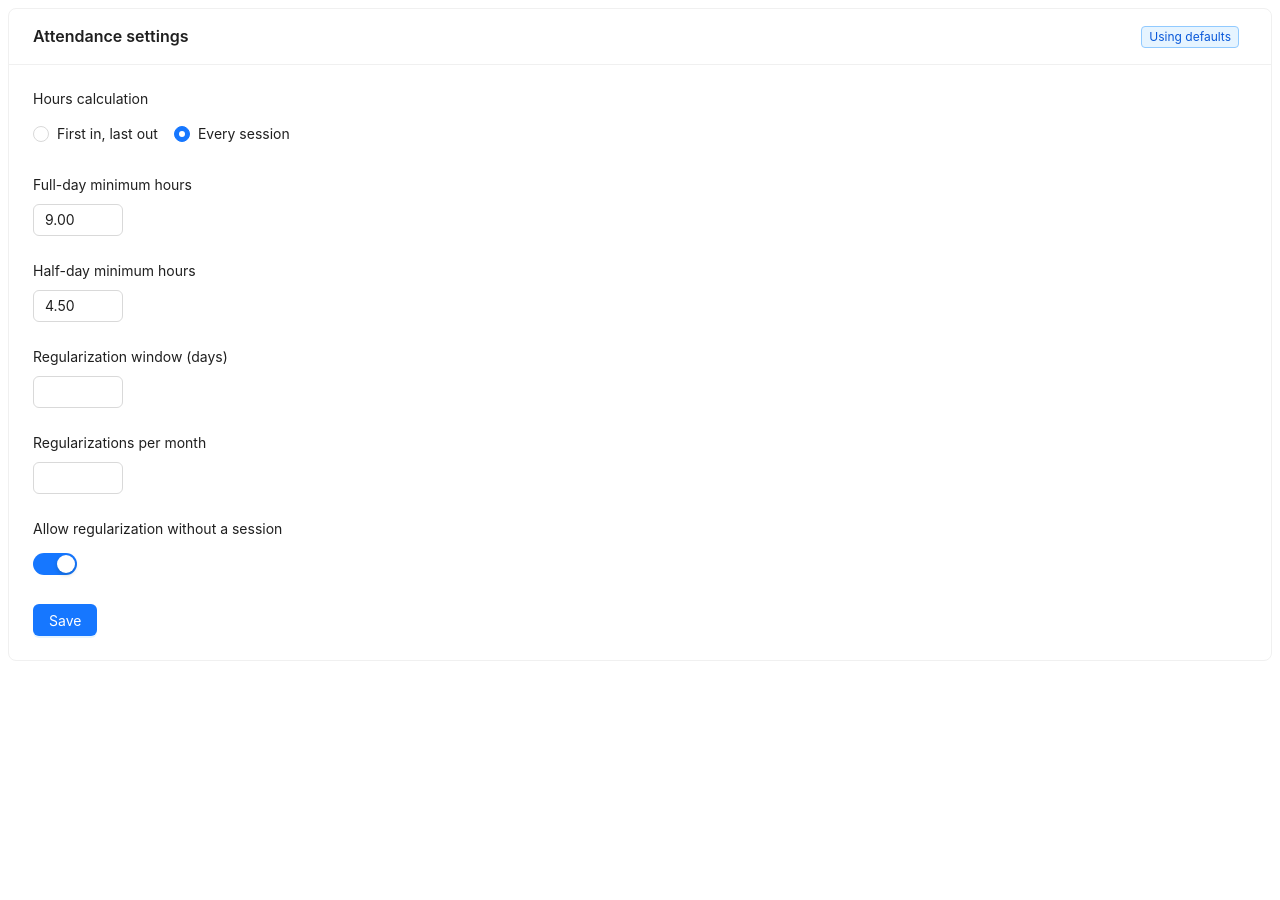
Test: AttendanceSettings (W-48.4 §7) › blocks half day above full day
expect the text "Using defaults" is shown: met, box [1141, 26, 1239, 48]
Replace the text in the number field named "Half-day minimum hours" with "10" at coordinates (78, 306), box [34, 291, 122, 321]
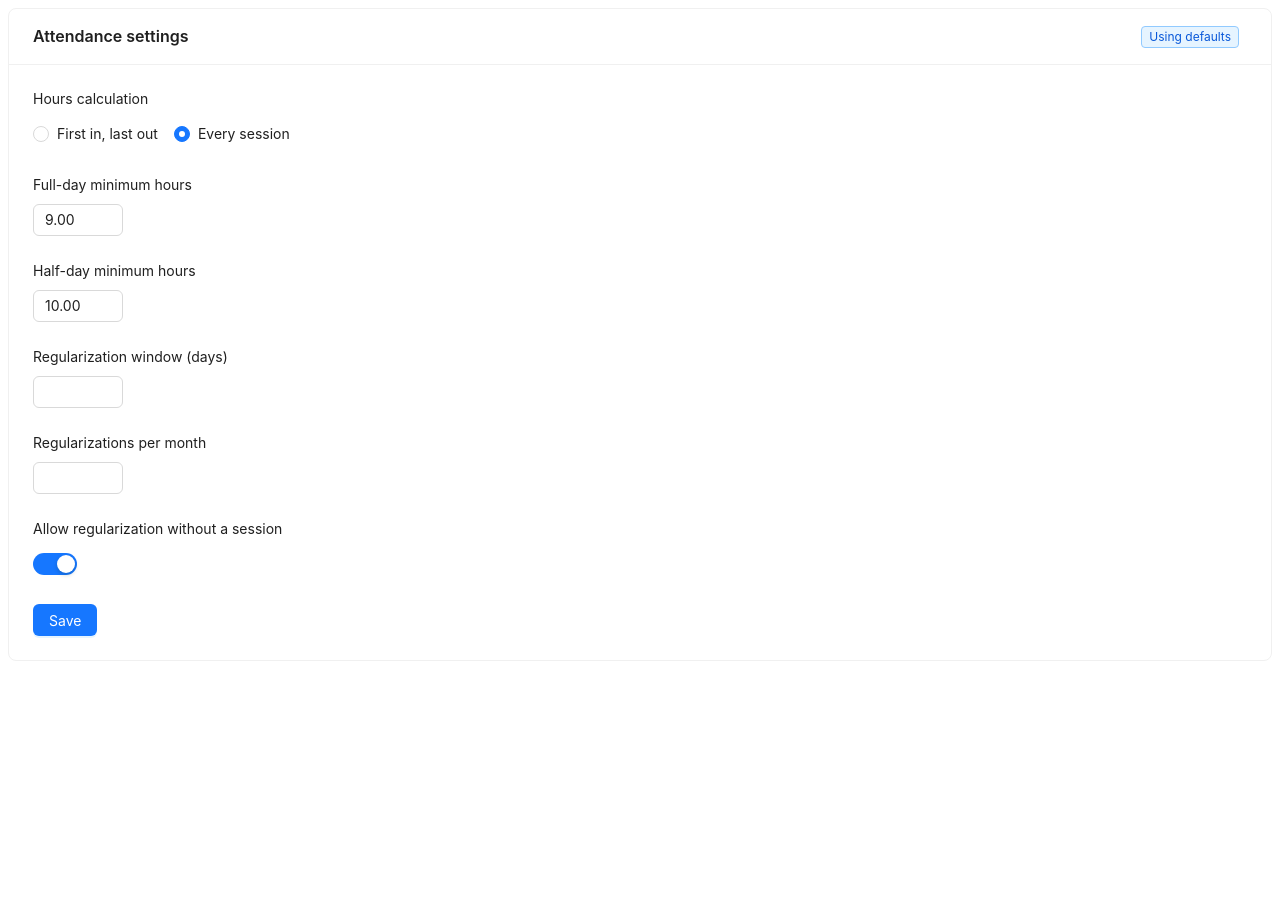
Click the button "Save" at coordinates (65, 620), box [33, 604, 97, 636]
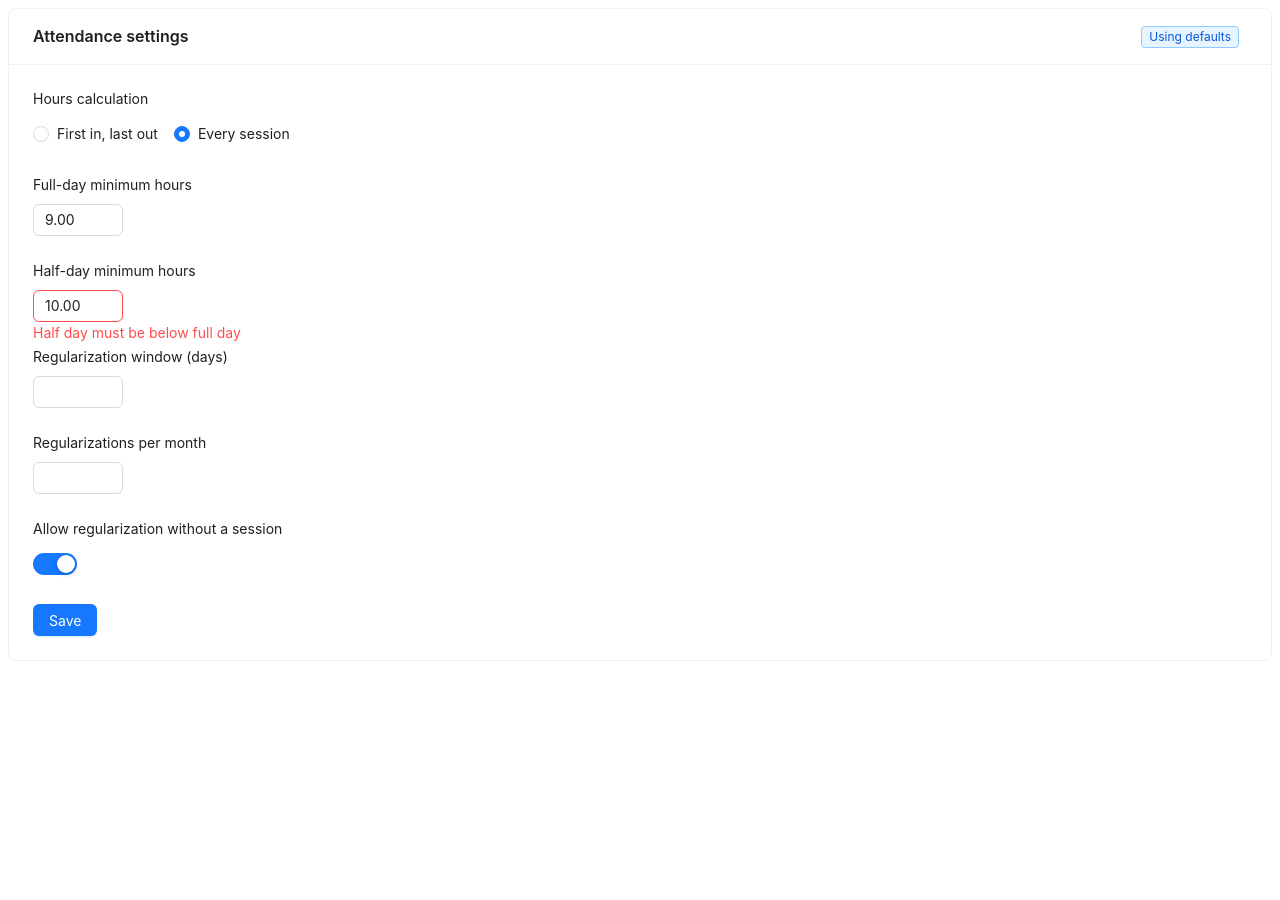
expect the text "Half day must be below full day" is shown: met, box [33, 324, 241, 341]
